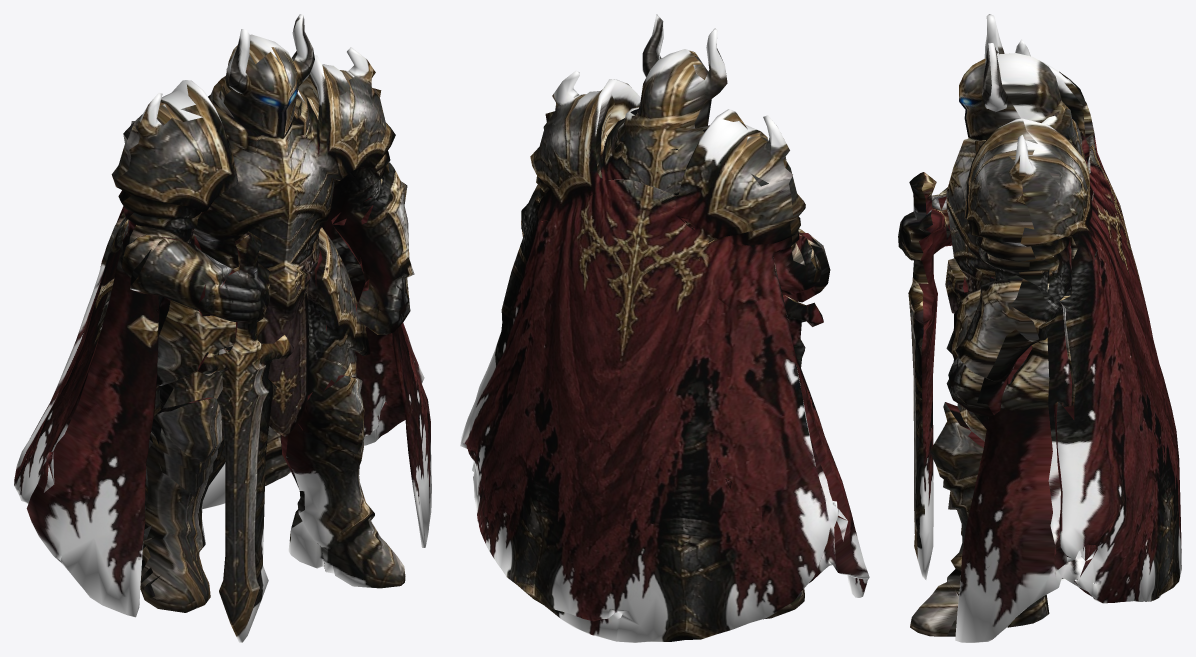
Rendered from knight.glb.
The picture shows the model from 3 angles, left to right: view 1: azimuth 30°, elevation 25°; view 2: azimuth 150°, elevation 25°; view 3: azimuth 270°, elevation 25°; orthographic projection.
Parts seen in each view (by area): view 1: world; view 2: world; view 3: world.
Boxes of the visible parts, x1,y1,x2,y2 form: world: [14, 14, 431, 642]; world: [460, 14, 869, 642]; world: [898, 14, 1181, 642].
Bounding box in the file's own units: 1.27 × 1.8 × 0.7954.
1 material, 1 textured.
